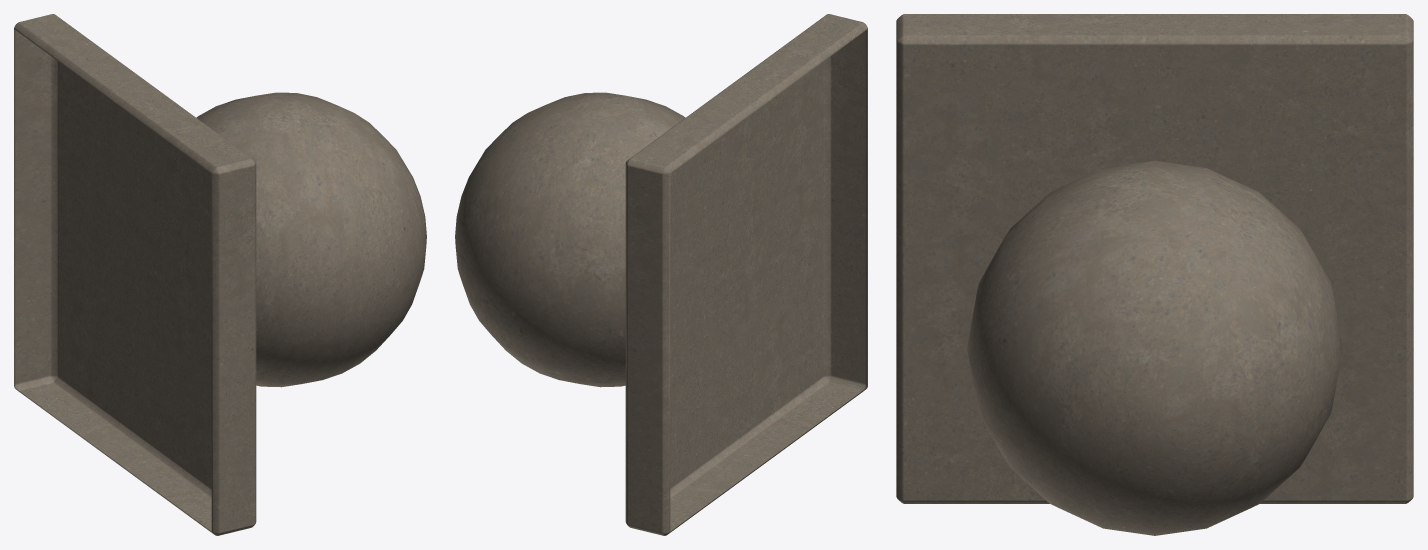
File: cP_BarrierSphere01.dae
The picture shows the model from 3 angles, left to right: view 1: azimuth 30°, elevation 25°; view 2: azimuth 150°, elevation 25°; view 3: azimuth 270°, elevation 25°; orthographic projection. The views are drawn at different scales.
Visible parts, largest first — view 1: cP_BarrierSphere01.001; view 2: cP_BarrierSphere01.001; view 3: cP_BarrierSphere01.001.
Part boxes in pixels (x1,y1,x2,y2): cP_BarrierSphere01.001: (14, 14, 426, 535); cP_BarrierSphere01.001: (455, 14, 867, 535); cP_BarrierSphere01.001: (896, 14, 1413, 535).
Bounding box in the file's own units: 0.561 × 0.6724 × 0.6724.
